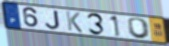1: (109, 15, 122, 38)
3: (85, 12, 106, 36)
6: (22, 6, 40, 29)
J: (45, 10, 62, 31)
K: (65, 10, 84, 34)
O: (127, 17, 152, 40)
